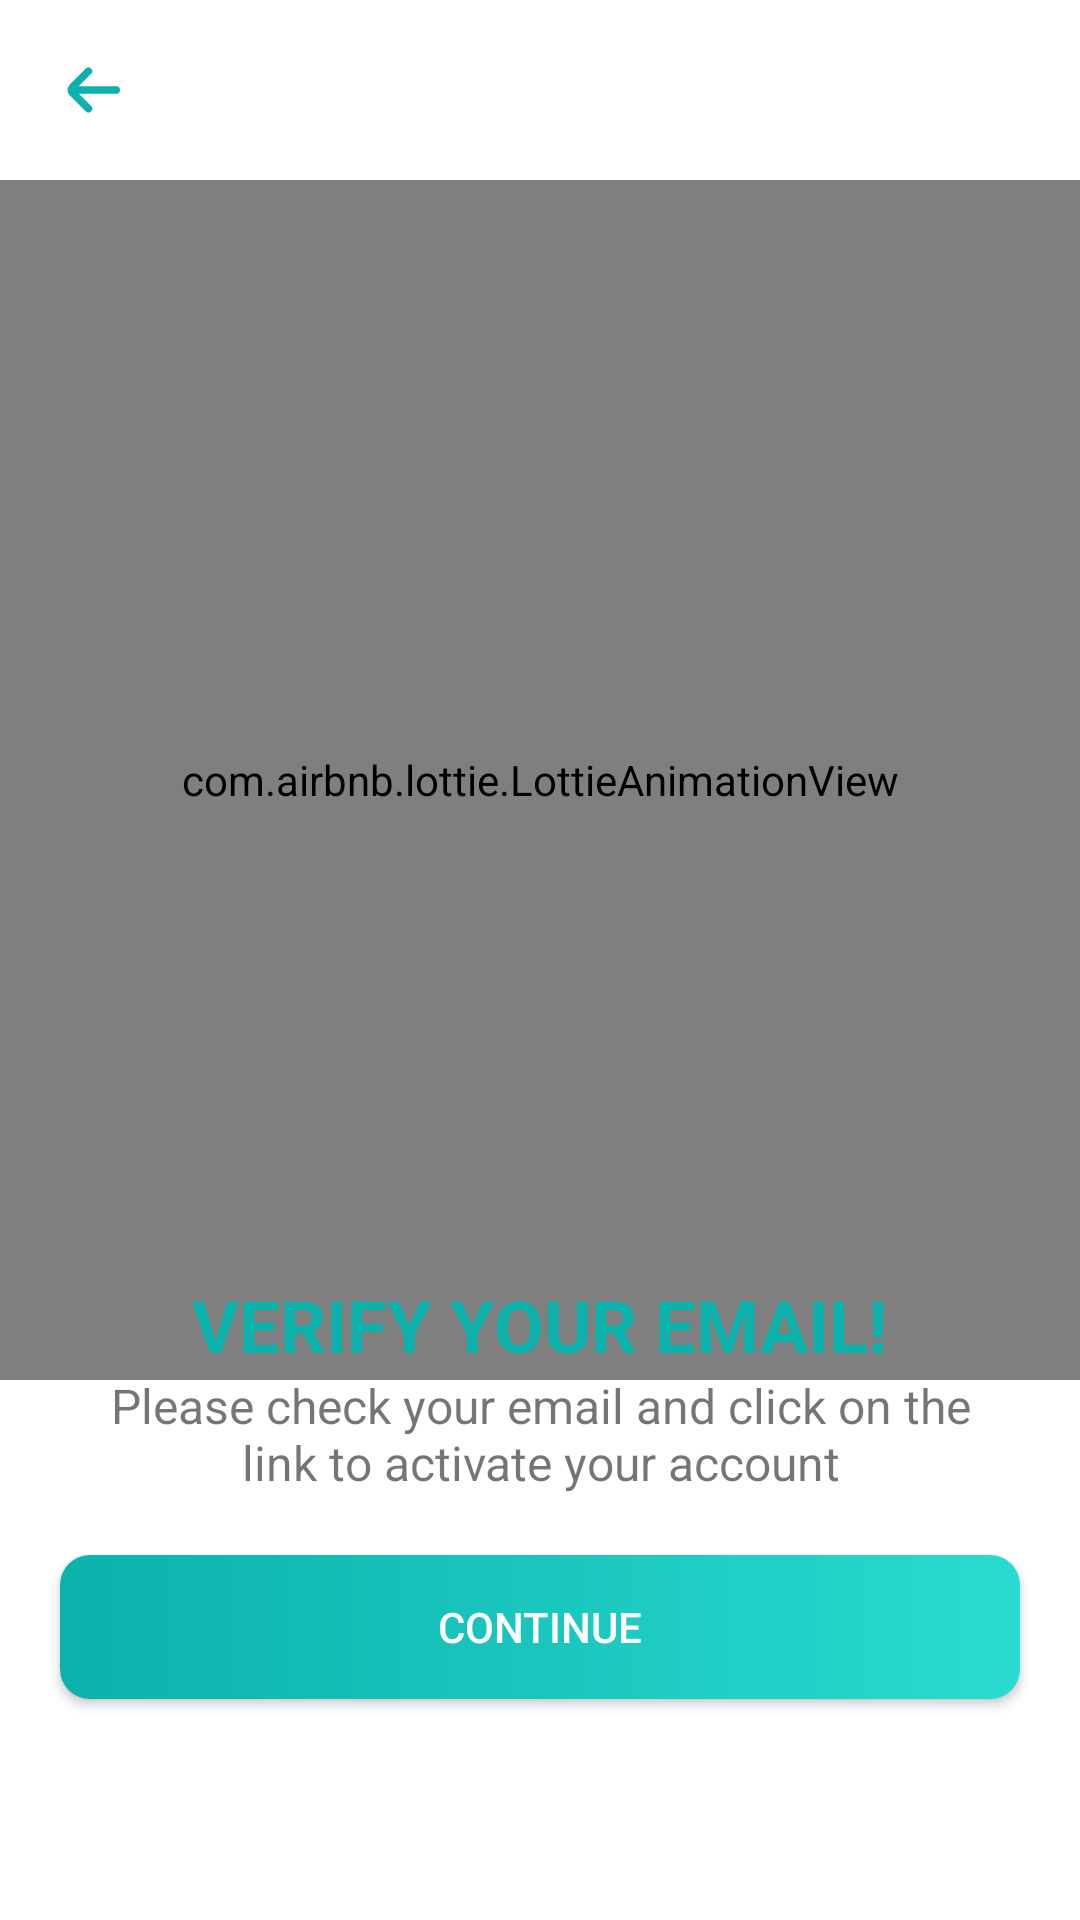

Icon bounding boxes for this 1080px x 1920px phone screenshot, format (x1, y1, x2, y2):
arrow left: (67, 67, 120, 113)
